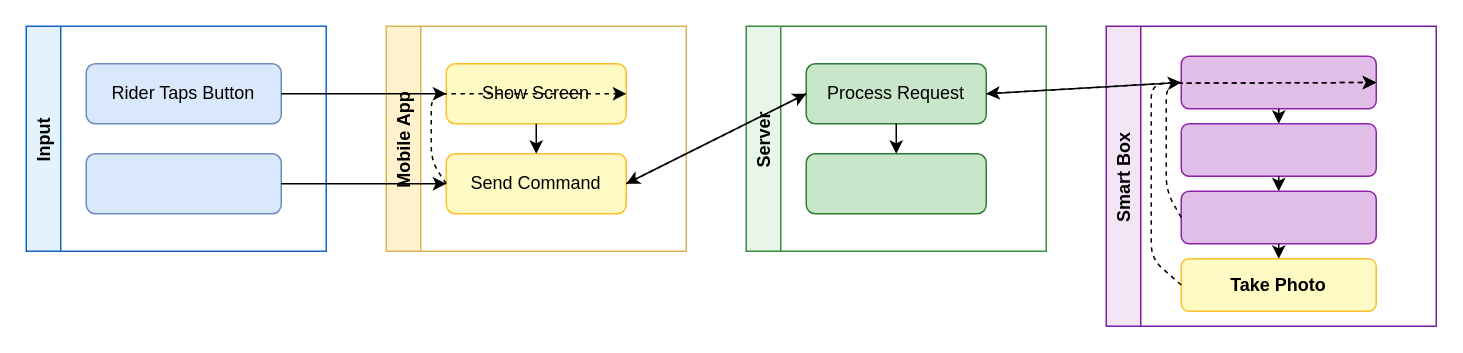
Some shapes in this 1463 by 353 pixel diagram are drawn without their labels. The shapes that lost their labels are listed below. From the top down, each one's centre as x and y in pixels, then its label:
At pixel 1278 82: "Receive Command".
At pixel 1278 149: "Lock/Unlock".
At pixel 183 183: "GPS Location".
At pixel 895 183: "Save to Database".
At pixel 1278 217: "Read Sensors".
